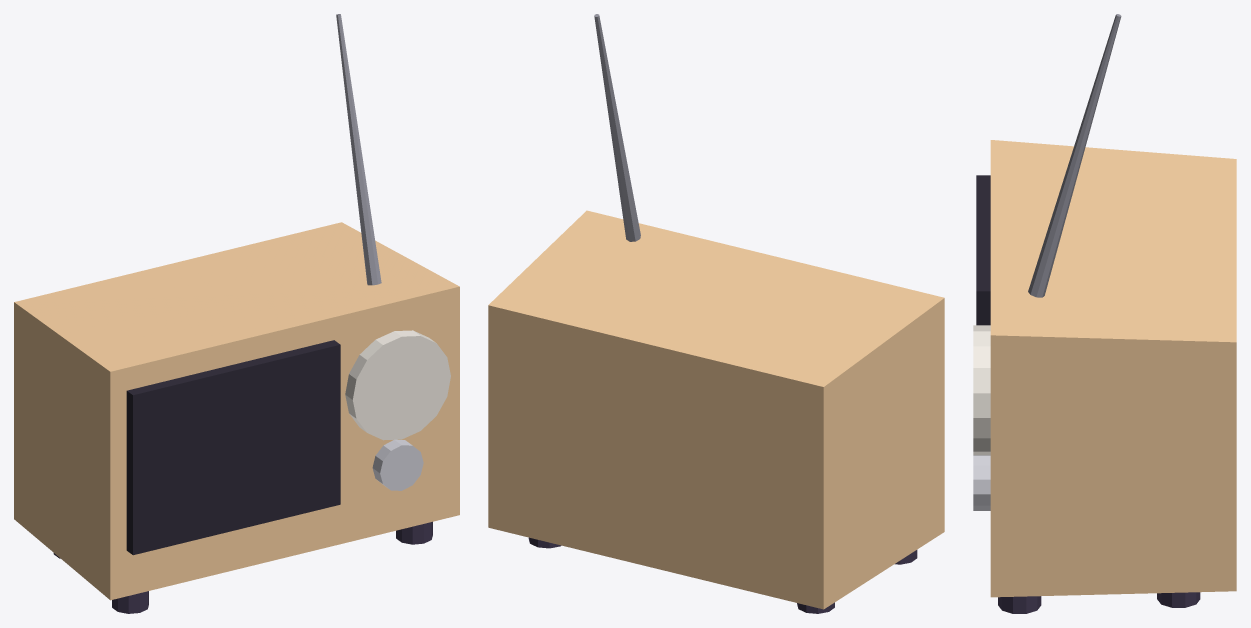
The model's file is hotspot_social_radio.glb.
3 renders of one model, left to right at view 1: azimuth 30°, elevation 25°; view 2: azimuth 150°, elevation 25°; view 3: azimuth 270°, elevation 25°, orthographic. The views are drawn at different scales.
Parts seen in each view (by area): view 1: hotspot_social_radio; view 2: hotspot_social_radio; view 3: hotspot_social_radio.
Part boxes in pixels (left/top/right/bottom): hotspot_social_radio: left=14, top=14, right=459, bottom=613; hotspot_social_radio: left=488, top=14, right=944, bottom=613; hotspot_social_radio: left=973, top=14, right=1236, bottom=613.
Bounding box in the file's own units: 0.32 × 0.4368 × 0.182.
